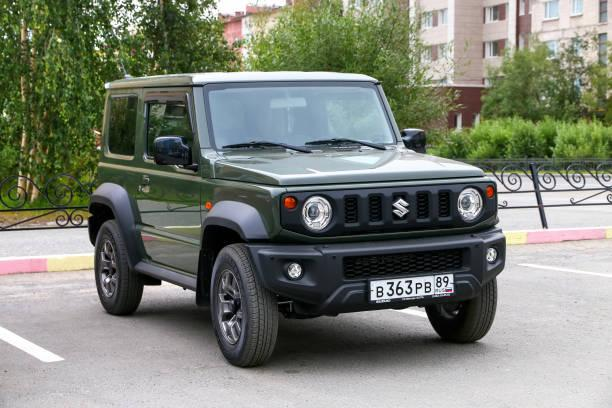suzuki: (388, 196, 414, 224)
